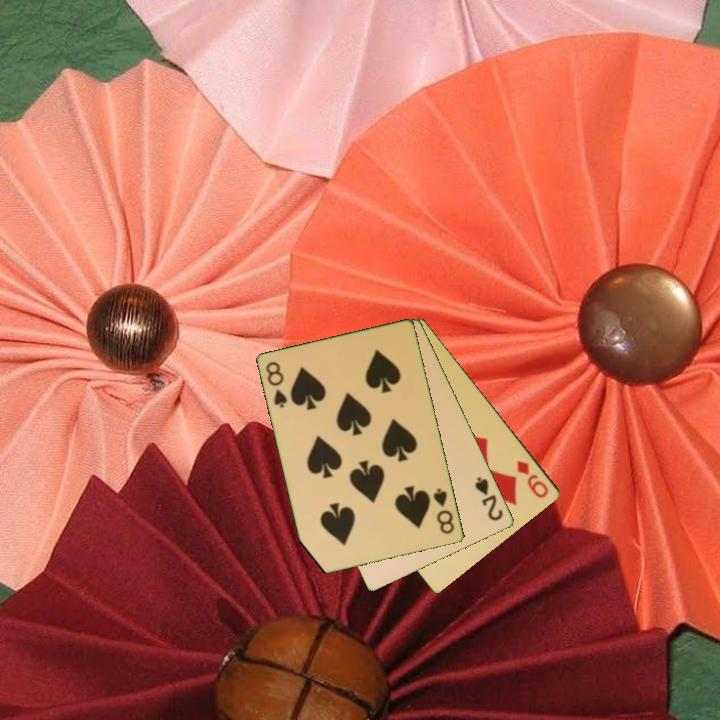2s: (472, 473, 506, 524)
8s: (263, 358, 290, 411), (430, 485, 457, 537)
9d: (514, 457, 552, 501)
